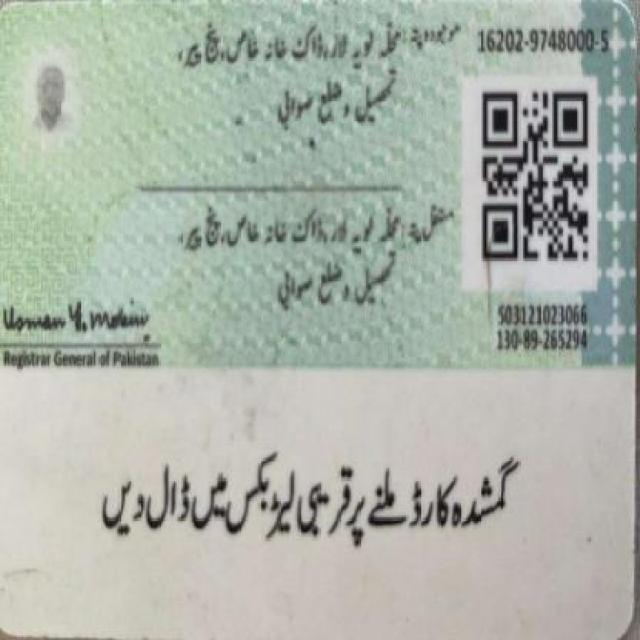Back: (8, 9, 629, 623)
